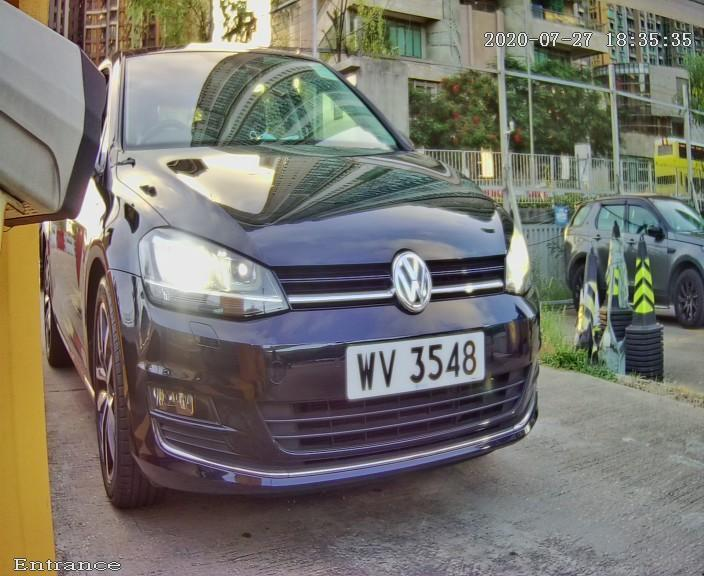privatecar: (32, 21, 610, 525)
